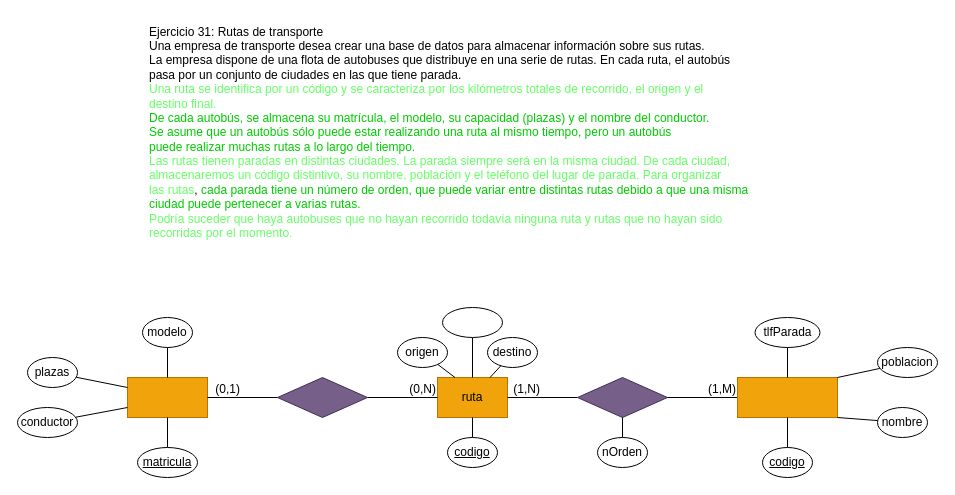
The diagram is 955 pixels wide and 495 high, and some of its shapes have lost their labels. The box of each missing label's shape, as (x1, y1, x2, y2) in pixels:
autobus: (126, 376, 208, 418)
ciudad: (736, 376, 838, 418)
kmTotales: (442, 306, 502, 338)
para: (576, 376, 668, 418)
realiza: (276, 376, 368, 418)
